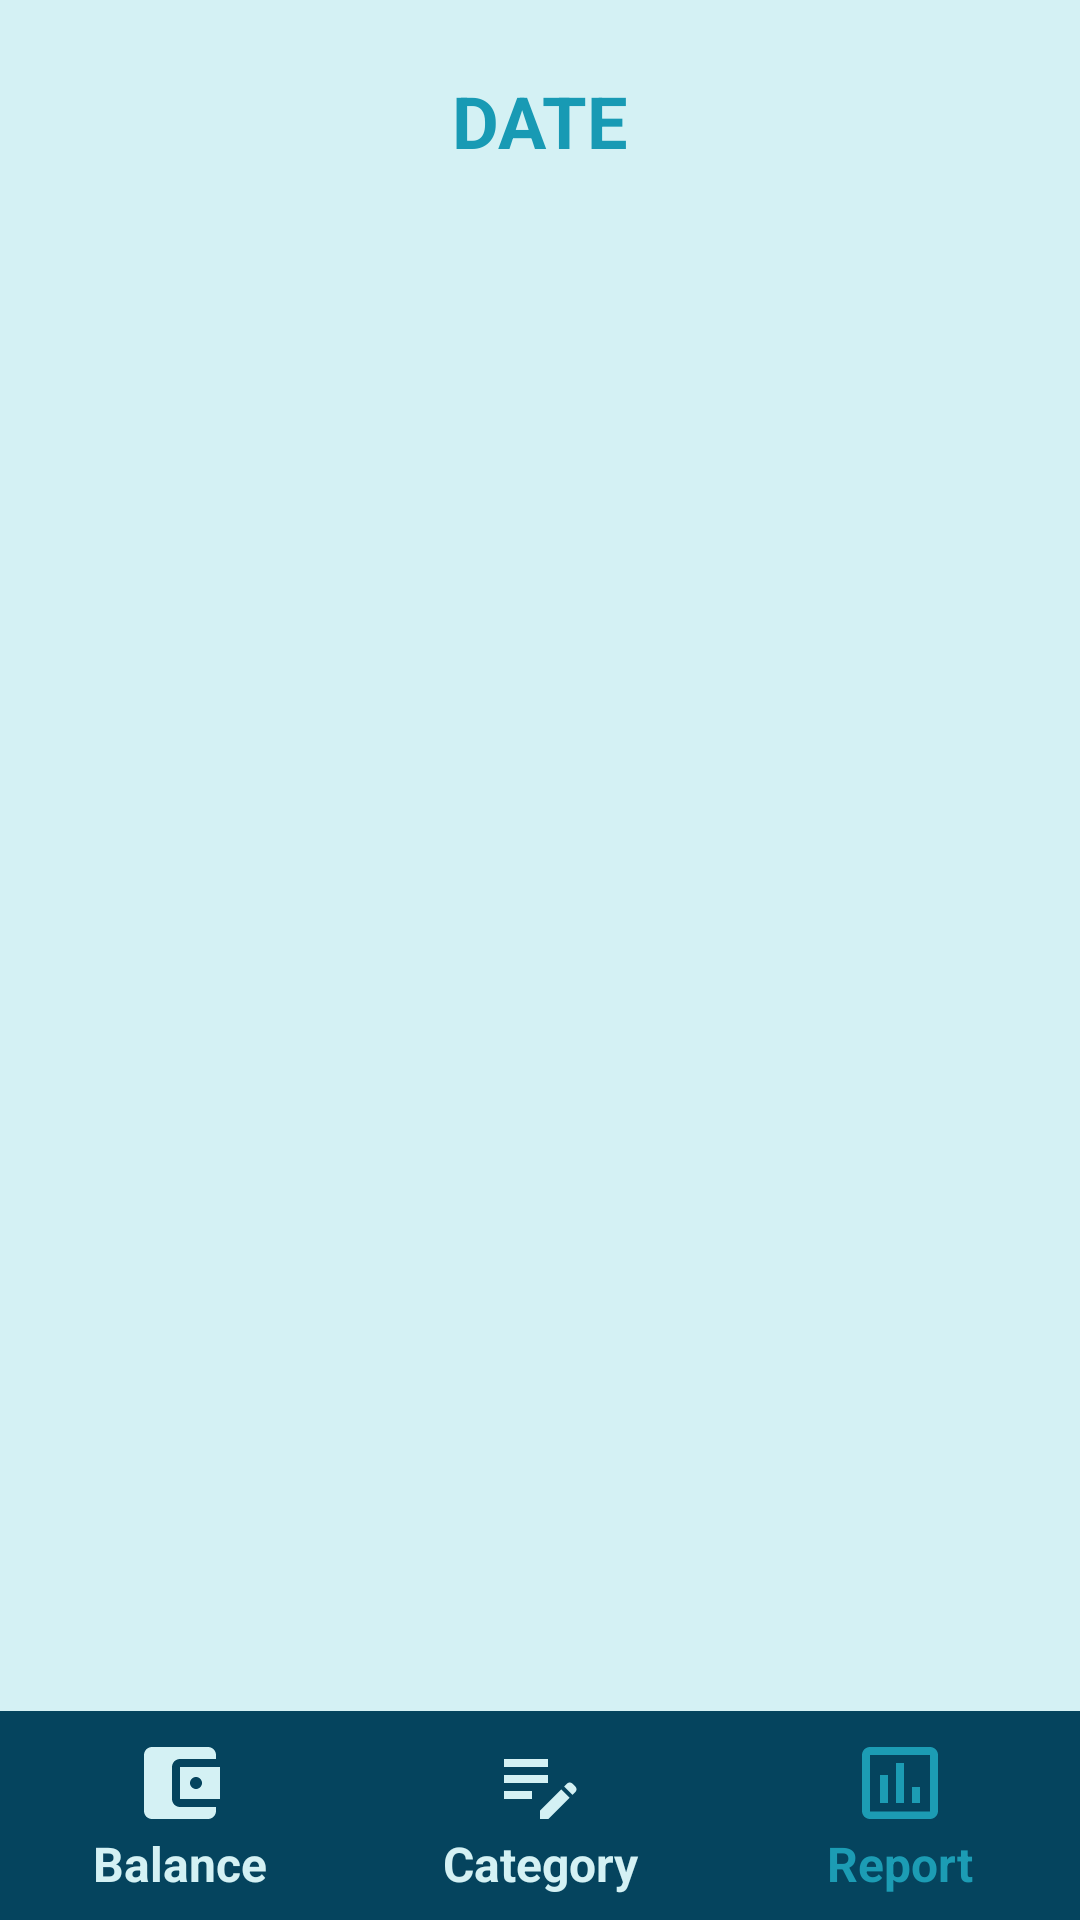

Where to tap for icons on this 1080*1920 app screen, as [x,y]:
chart: [900,1783]
